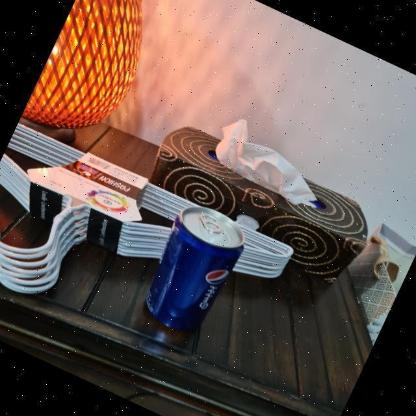Can: (146, 208, 244, 332)
